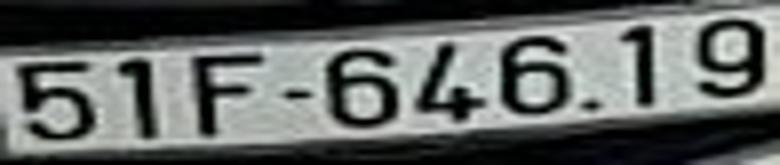-: (281, 85, 315, 101)
.: (579, 91, 602, 121)
1: (117, 55, 161, 146), (623, 20, 660, 110)
4: (409, 39, 488, 125)
5: (18, 55, 100, 141)
6: (321, 47, 399, 130), (498, 32, 573, 116)
9: (695, 14, 769, 101)
F: (191, 47, 265, 136)
